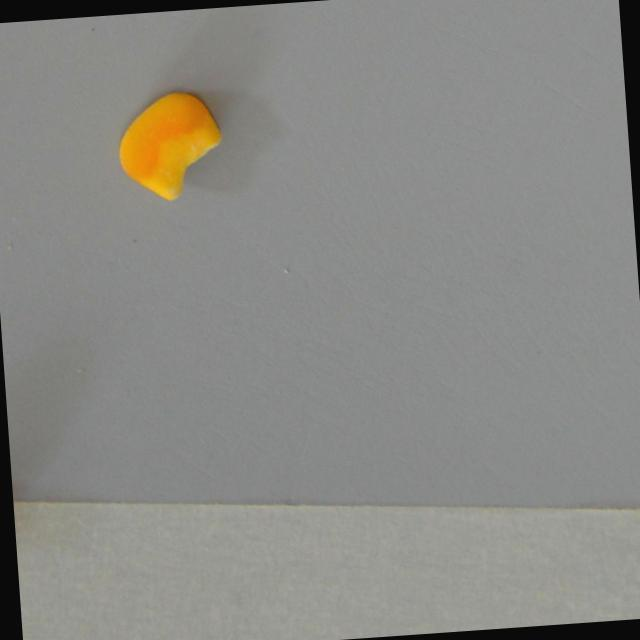no_canjicado: (112, 86, 227, 206)
